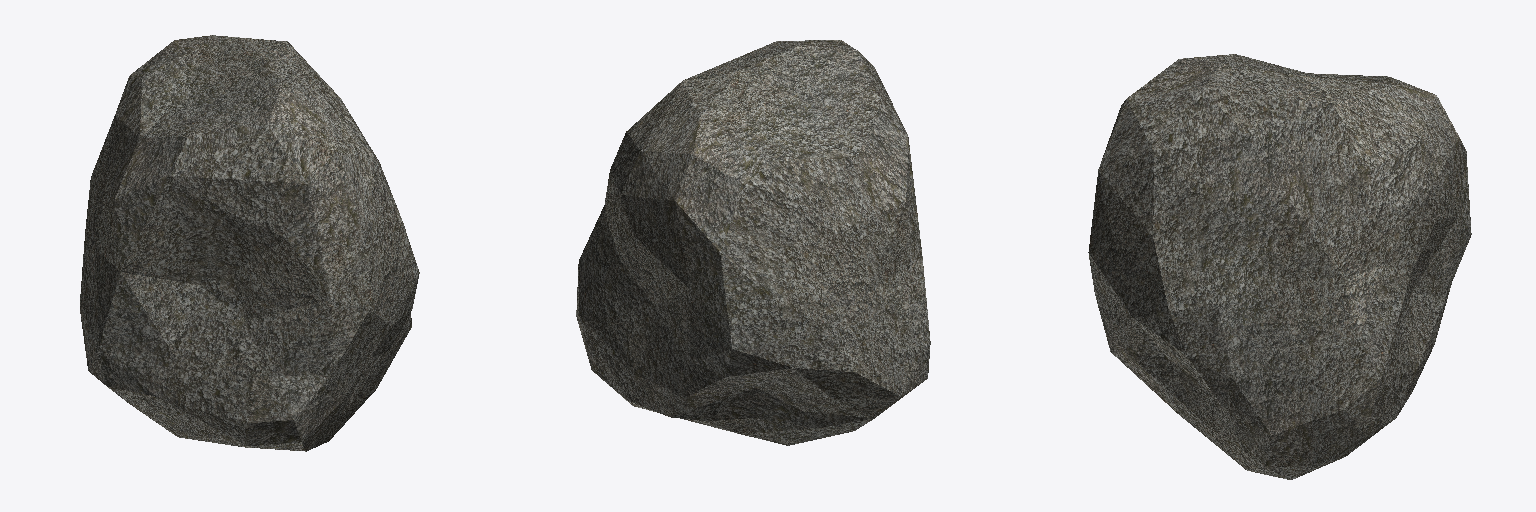
3 renders of one model, left to right at view 1: azimuth 30°, elevation 25°; view 2: azimuth 150°, elevation 25°; view 3: azimuth 270°, elevation 25°, orthographic.
Parts seen in each view (by area): view 1: bouldercubic128; view 2: bouldercubic128; view 3: bouldercubic128.
Boxes of the visible parts, <box> form: bouldercubic128: <box>80,35,419,451</box>; bouldercubic128: <box>576,40,930,445</box>; bouldercubic128: <box>1088,54,1471,479</box>.
Size of the model in its own units: 1.93 by 2.2 by 2.
Materials: 1 (1 with a texture image).